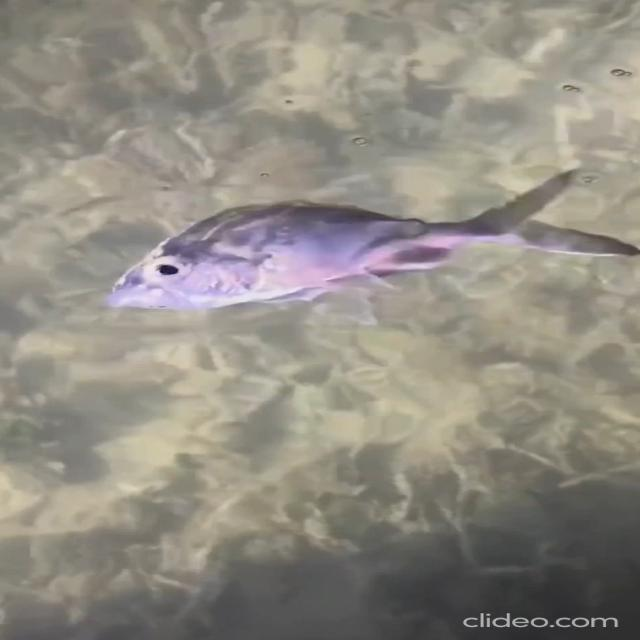fish: (92, 166, 638, 320)
